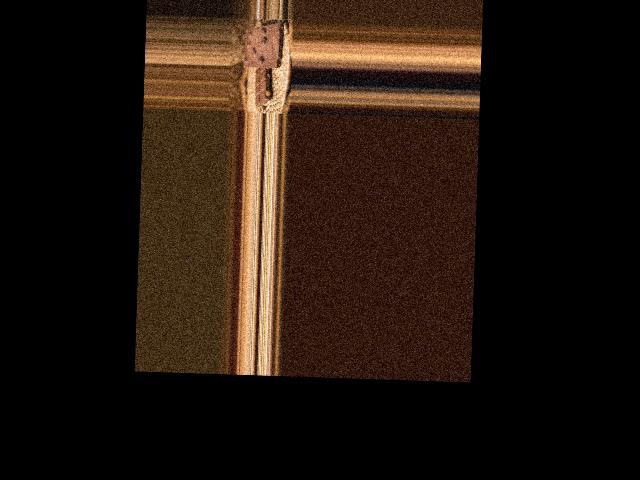chocolate: (242, 21, 283, 71)
